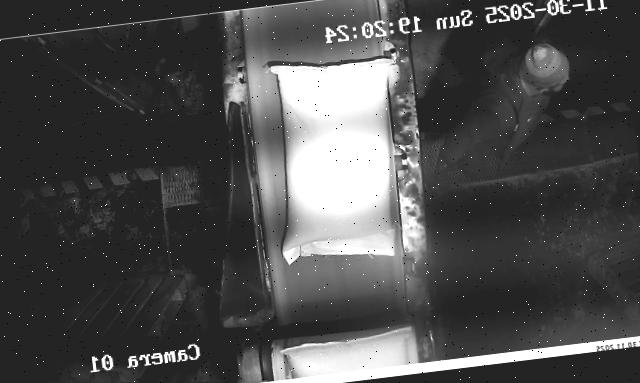bag: (258, 50, 414, 268), (280, 328, 414, 380)
